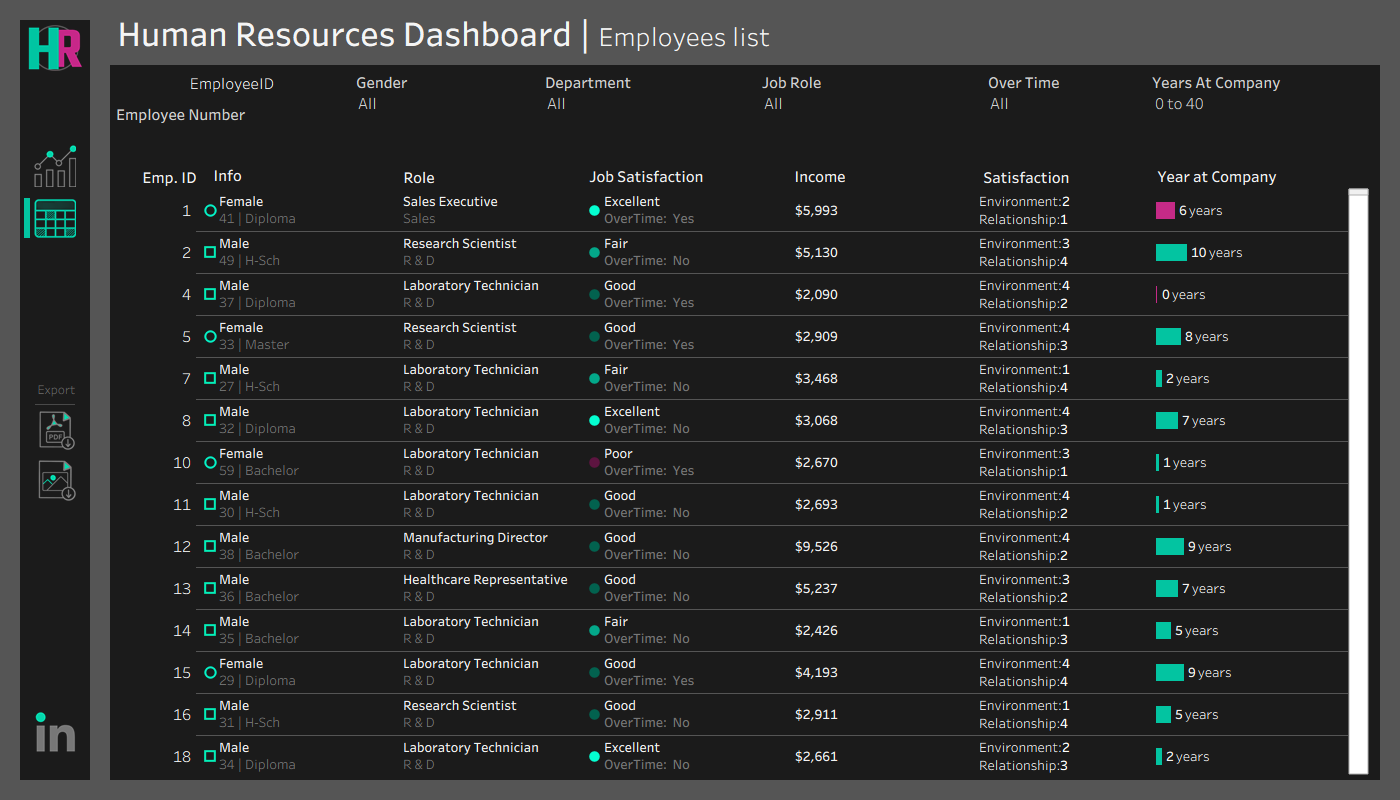

Layout of this report page (visuals, bound fields, positions):
{"tool":"tableau","page":{"name":"HR | Details","canvas":[1400,800],"ordinal":0},"visuals":[{"type":"text","box":[110,0,1270,65]},{"type":"image","param":"Image/Logo.png","box":[20,20,70,55]},{"type":"text","box":[112,67,240,32]},{"type":"filter","title":"Detailed","param":"[federated.0u80q5k0lsms731e5e9t819hkst2].[none:Gender:nk]","box":[352,67,189,86]},{"type":"filter","title":"Detailed","param":"[federated.0u80q5k0lsms731e5e9t819hkst2].[none:Department:nk]","box":[541,67,217,86]},{"type":"filter","title":"Detailed","param":"[federated.0u80q5k0lsms731e5e9t819hkst2].[none:JobRole:nk]","box":[758,67,226,86]},{"type":"filter","title":"Detailed","param":"[federated.0u80q5k0lsms731e5e9t819hkst2].[none:OverTime:nk]","box":[984,67,164,86]},{"type":"filter","title":"Detailed","param":"[federated.0u80q5k0lsms731e5e9t819hkst2].[sum:YearsAtCompany:qk]","box":[1148,67,230,86]},{"type":"blank","box":[30,85,50,60]},{"type":"filter","title":"Detailed","param":"[federated.0u80q5k0lsms731e5e9t819hkst2].[none:EmployeeNumber:ok]","box":[112,99,240,54]},{"type":"dashboard-object","box":[30,145,50,42]},{"type":"text","box":[210,160,63,30]},{"type":"text","box":[586,161,128,30]},{"type":"text","box":[791,161,100,30]},{"type":"text","box":[1154,161,127,30]},{"type":"text","box":[139,162,66,30]},{"type":"text","box":[400,162,74,30]},{"type":"text","box":[980,162,100,30]},{"type":"worksheet","title":"Detailed","mark":"Shape","rows":["EmployeeNumber"],"cols":["Calculation_1307894175313937","Calculation_1307894175313937","Calculation_1307894175313937","Calculation_1307894175313937","Calculation_1307894175313937","YearsAtCompany"],"box":[112,185,1266,593]},{"type":"blank","box":[30,187,50,10]},{"type":"dashboard-object","box":[30,197,50,42]},{"type":"blank","box":[24,198,6,40]},{"type":"blank","box":[30,239,50,140]},{"type":"text","box":[30,379,50,20]},{"type":"blank","box":[30,399,50,11]},{"type":"dashboard-object","box":[30,410,50,40]},{"type":"dashboard-object","box":[30,450,50,60]},{"type":"blank","box":[30,510,50,197]},{"type":"image","param":"Image/contact-linkedin.png","box":[30,707,50,51]}]}

Visuals, with their boxes on the page's 1400x800 design canvas (x1, y1, x2, y2). These are canvas units, not pixel positions in the 1400x800 screenshot, which may show the page scaled, cropped or inside an application window:
text: (110,0,1380,65)
image: (20,20,90,75)
text: (112,67,352,99)
"Detailed" filter: (352,67,541,153)
"Detailed" filter: (541,67,758,153)
"Detailed" filter: (758,67,984,153)
"Detailed" filter: (984,67,1148,153)
"Detailed" filter: (1148,67,1378,153)
blank: (30,85,80,145)
"Detailed" filter: (112,99,352,153)
dashboard-object: (30,145,80,187)
text: (210,160,273,190)
text: (586,161,714,191)
text: (791,161,891,191)
text: (1154,161,1281,191)
text: (139,162,205,192)
text: (400,162,474,192)
text: (980,162,1080,192)
"Detailed" worksheet (Shape marks): (112,185,1378,778)
blank: (30,187,80,197)
dashboard-object: (30,197,80,239)
blank: (24,198,30,238)
blank: (30,239,80,379)
text: (30,379,80,399)
blank: (30,399,80,410)
dashboard-object: (30,410,80,450)
dashboard-object: (30,450,80,510)
blank: (30,510,80,707)
image: (30,707,80,758)
